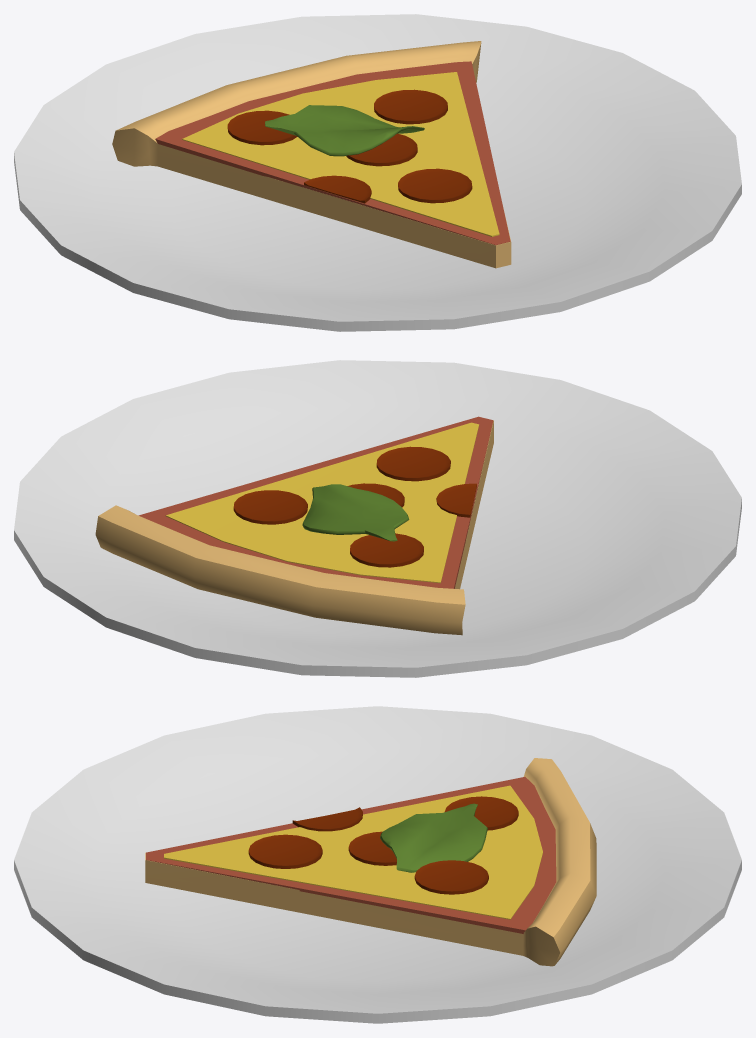
File: pizza.fbx
3 views of the same model, one above another, from view 1: azimuth 30°, elevation 25°; view 2: azimuth 150°, elevation 25°; view 3: azimuth 270°, elevation 25° (orthographic).
Parts seen in each view (by area): view 1: pCylinder32, polySurface31; view 2: pCylinder32, polySurface31; view 3: pCylinder32, polySurface31.
Part boxes in pixels (x1,y1,x2,y2): pCylinder32: (14,14,741,331); polySurface31: (112,41,511,268); pCylinder32: (14,360,741,677); polySurface31: (95,416,493,635); pCylinder32: (14,706,741,1023); polySurface31: (145,758,596,966).
Bounding box in the file's own units: 1.8 × 0.1954 × 1.8.
